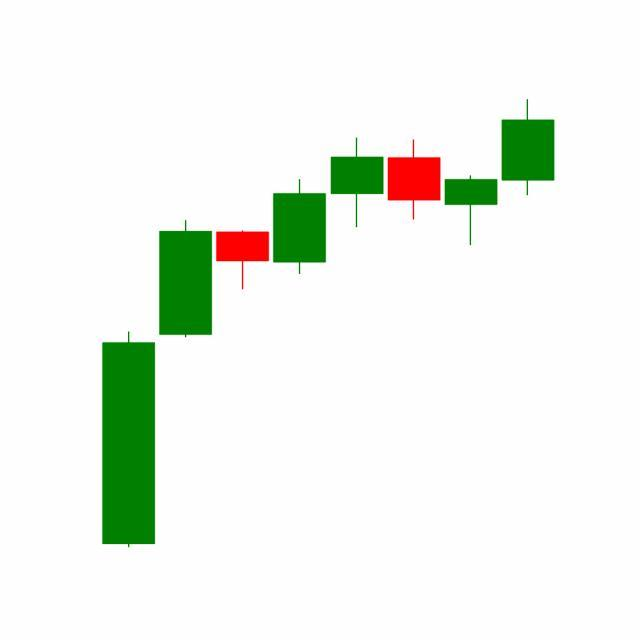Hikkake Pattern: (214, 136, 501, 292)
